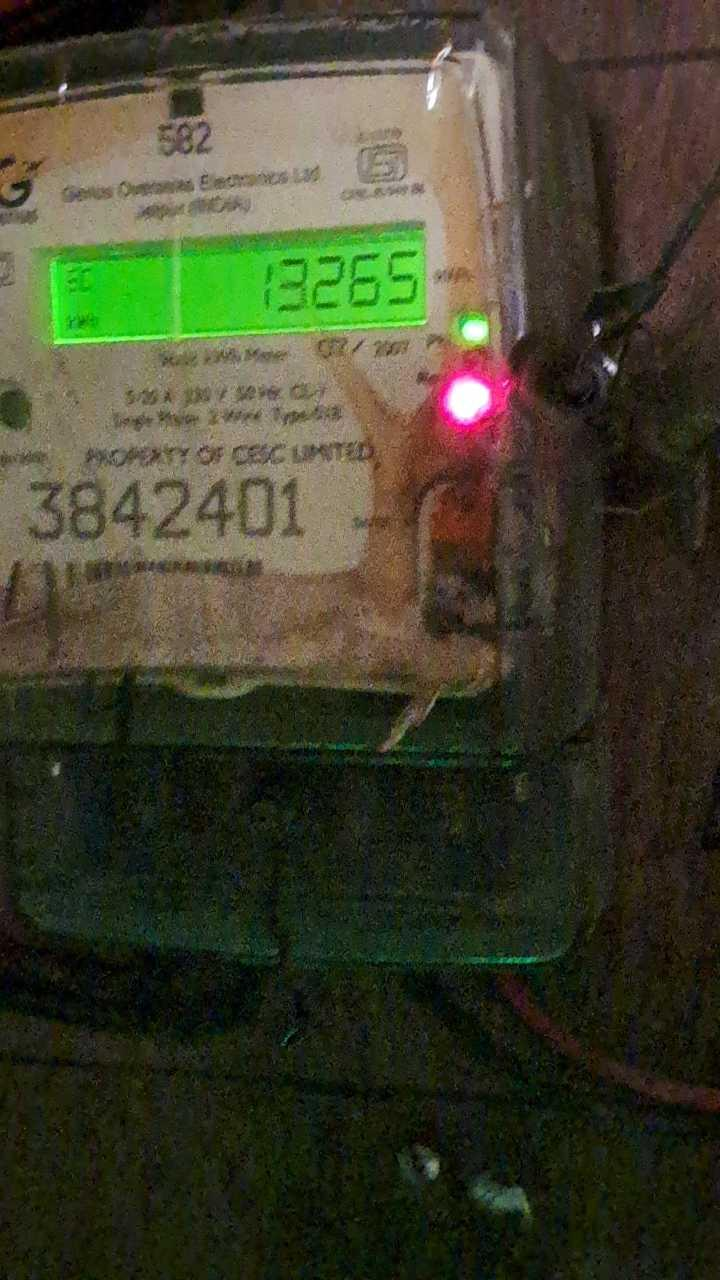meter_readings: (260, 246, 422, 319)
serial_number: (18, 474, 311, 544)
